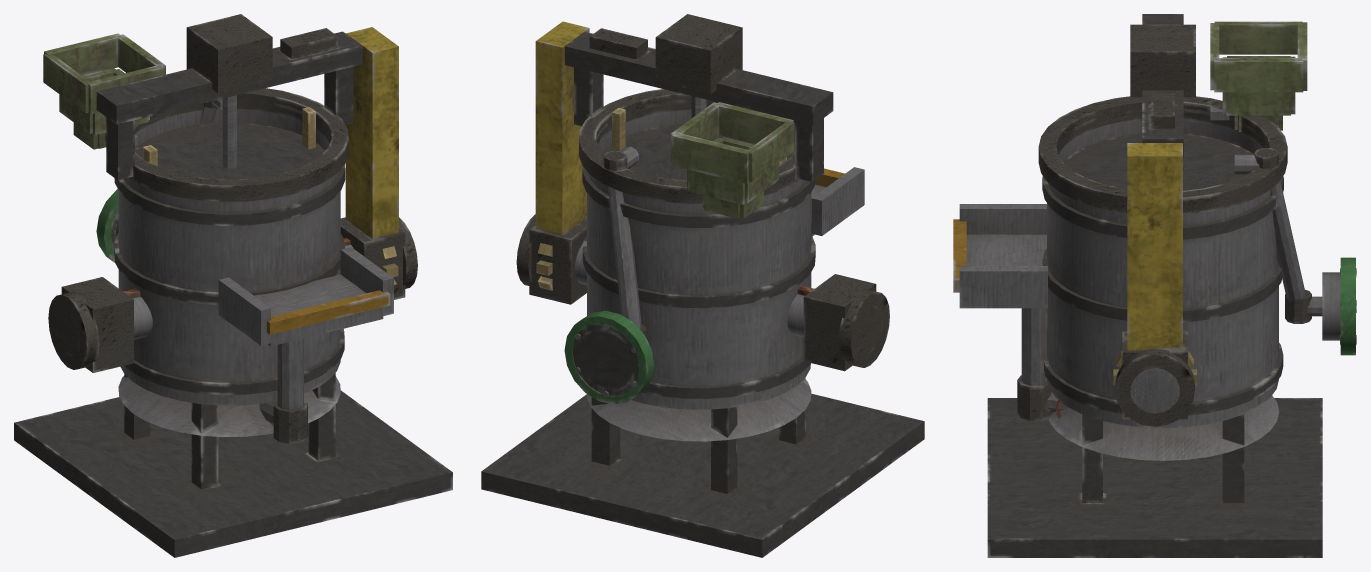
File: feChemMixer_HD.fbx
3 renders of one model, left to right at view 1: azimuth 30°, elevation 25°; view 2: azimuth 150°, elevation 25°; view 3: azimuth 270°, elevation 25°, orthographic. The views are drawn at different scales.
Visible parts, largest first — view 1: feChemMixer_Base, FeSpin_DriveShaft, FeSpin_x0.5_Stirrer; view 2: feChemMixer_Base, FeSpin_DriveShaft, FeSpin_x0.5_Stirrer; view 3: feChemMixer_Base, FeSpin_DriveShaft.
Boxes of the visible parts, <box> form: feChemMixer_Base: <box>14,14,452,557</box>; FeSpin_DriveShaft: <box>48,217,417,369</box>; FeSpin_x0.5_Stirrer: <box>143,95,315,168</box>; feChemMixer_Base: <box>481,14,924,557</box>; FeSpin_DriveShaft: <box>516,214,889,367</box>; FeSpin_x0.5_Stirrer: <box>612,96,786,164</box>; feChemMixer_Base: <box>953,14,1356,557</box>; FeSpin_DriveShaft: <box>1113,348,1196,426</box>.
Bounding box in the file's own units: 1 × 1.24 × 1.01.
3 materials, 1 textured.
